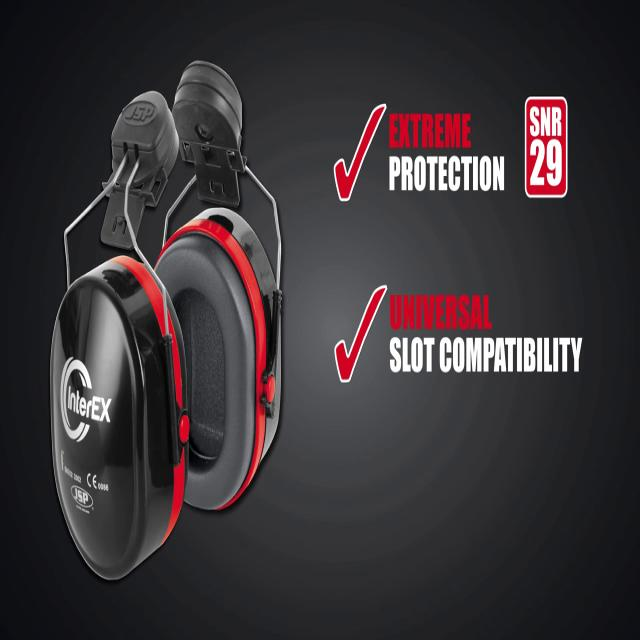earmuff: (48, 251, 193, 581), (150, 201, 286, 522)
